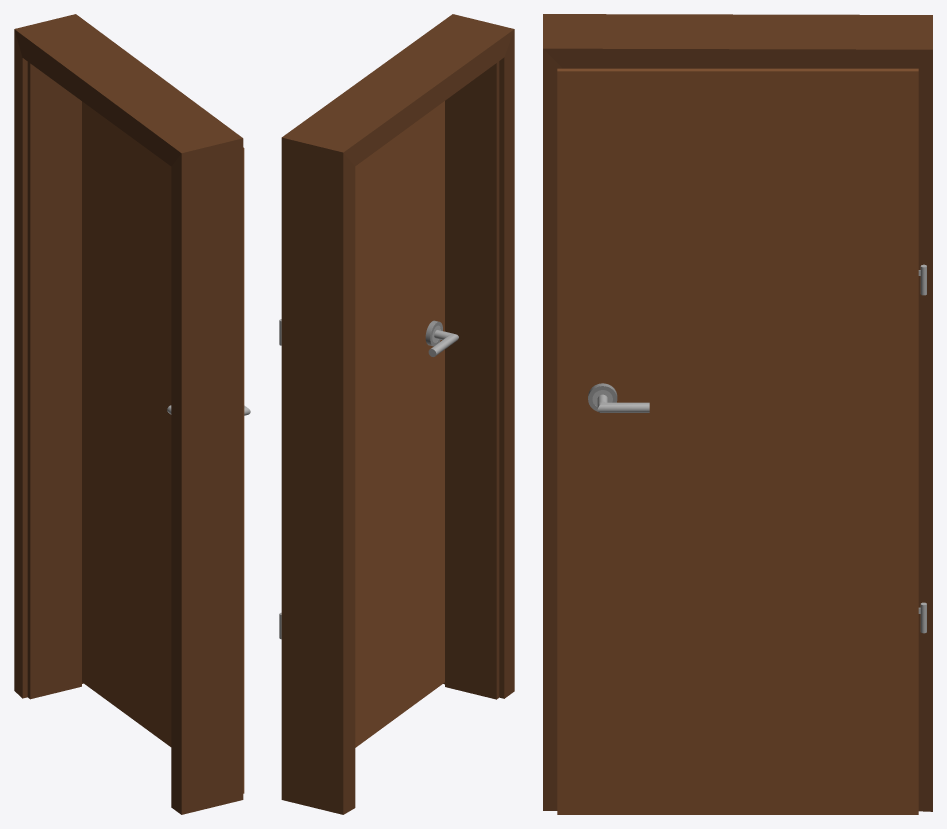
The model's file is door.glb.
The picture shows the model from 3 angles, left to right: view 1: azimuth 30°, elevation 25°; view 2: azimuth 150°, elevation 25°; view 3: azimuth 270°, elevation 25°; orthographic projection. The views are drawn at different scales.
Parts seen in each view (by area): view 1: Cylinder.005, Cylinder.001; view 2: Cylinder.005, Cylinder.001; view 3: Cylinder.001, Cylinder.005.
Boxes of the visible parts, left/top/right/bottom form: Cylinder.005: left=14, top=14, right=243, bottom=814; Cylinder.001: left=82, top=101, right=244, bottom=793; Cylinder.005: left=279, top=14, right=514, bottom=814; Cylinder.001: left=279, top=101, right=444, bottom=747; Cylinder.001: left=557, top=68, right=926, bottom=814; Cylinder.005: left=543, top=14, right=932, bottom=811.
Size of the model in its own units: 0.3009 by 2.05 by 0.95.
